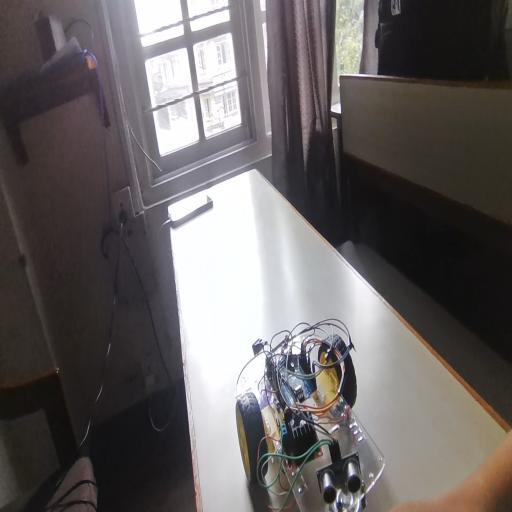car: (239, 308, 381, 512)
